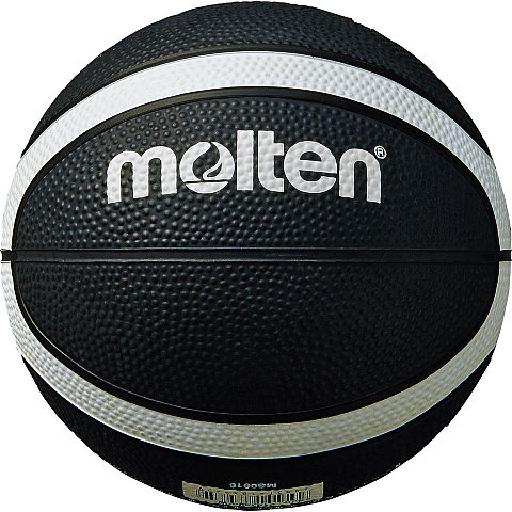ball: (1, 5, 504, 512)
